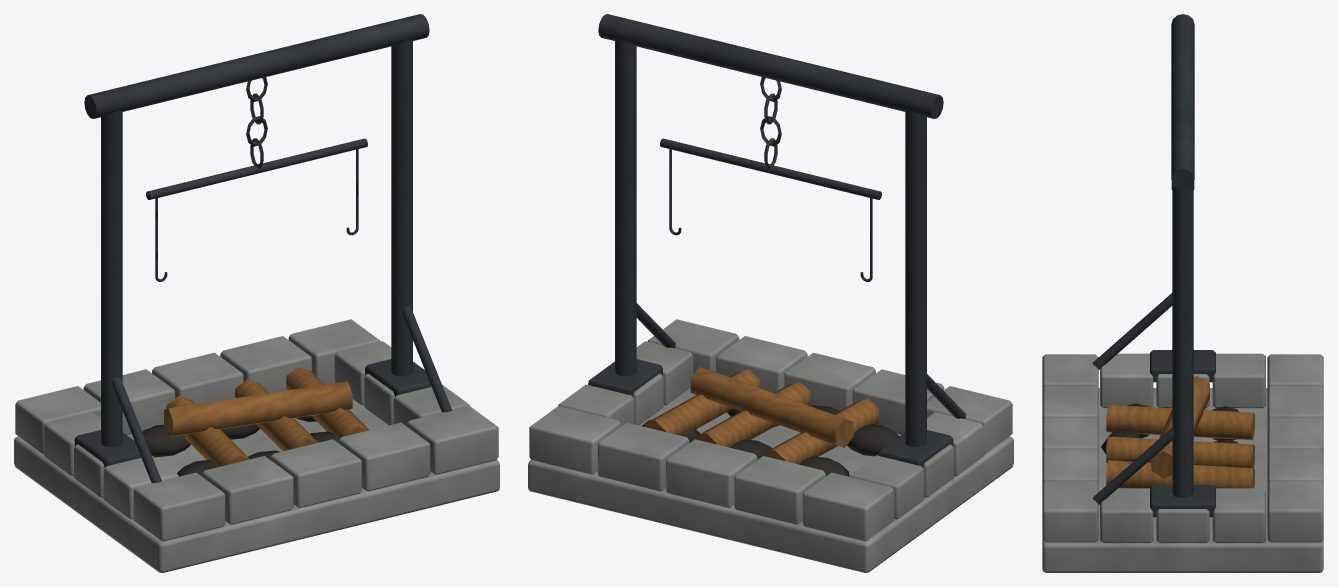
The model's file is Furn_PotFirePit.fbx.
The picture shows the model from 3 angles, left to right: view 1: azimuth 30°, elevation 25°; view 2: azimuth 150°, elevation 25°; view 3: azimuth 270°, elevation 25°; orthographic projection. The views are drawn at different scales.
Visible parts, largest first — view 1: Furn_PotFirePit_Mesh; view 2: Furn_PotFirePit_Mesh; view 3: Furn_PotFirePit_Mesh.
Part boxes in pixels (x1,y1,x2,y2): Furn_PotFirePit_Mesh: [14, 14, 499, 572]; Furn_PotFirePit_Mesh: [528, 14, 1013, 572]; Furn_PotFirePit_Mesh: [1042, 14, 1323, 572].
Size of the model in its own units: 1.6 by 1.9 by 1.2.
